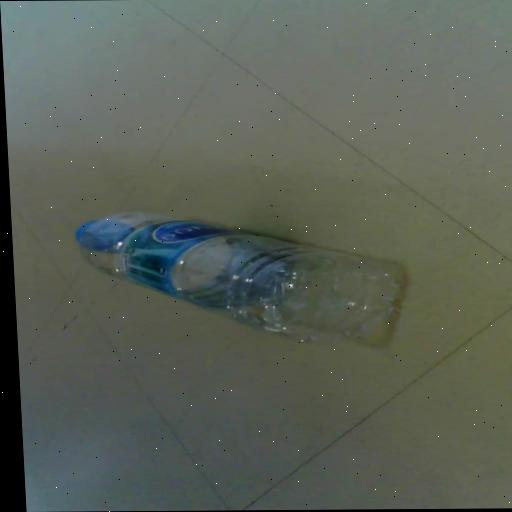bottle: (43, 199, 420, 359)
